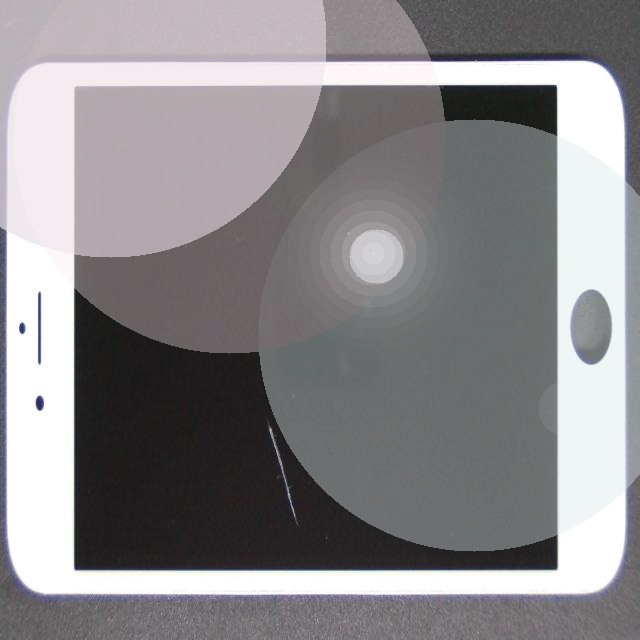scratch: (108, 143, 403, 640)
